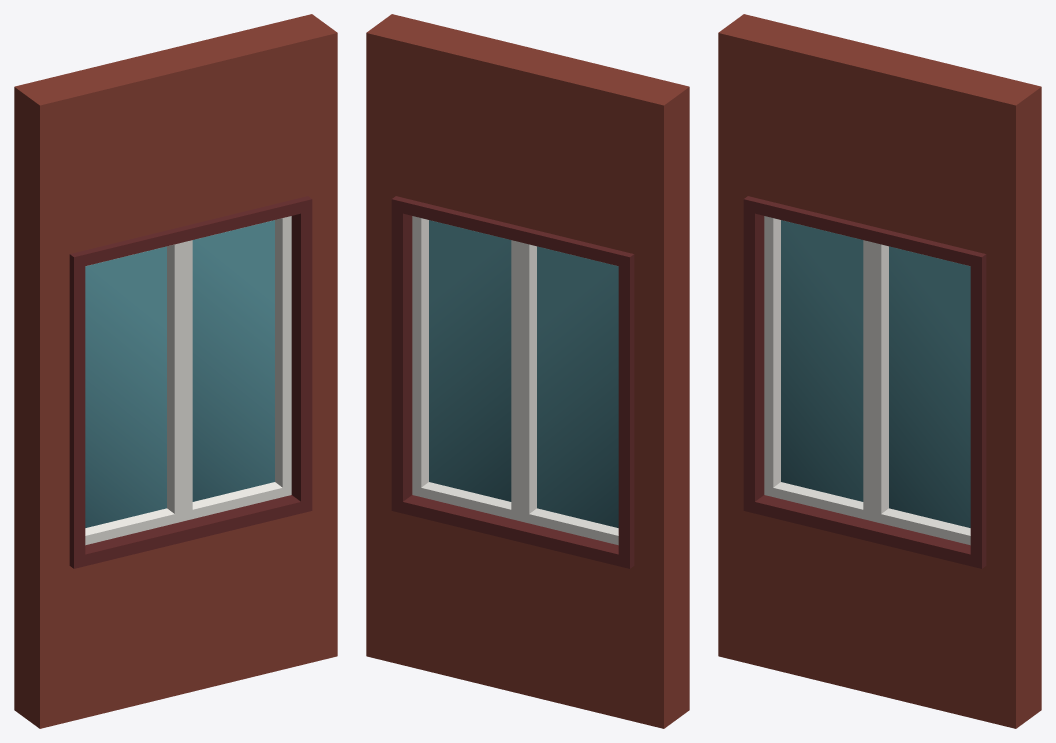
Rendered from window2X1.fbx.
3 renders of one model, left to right at view 1: azimuth 30°, elevation 25°; view 2: azimuth 150°, elevation 25°; view 3: azimuth 330°, elevation 25°, orthographic.
Parts seen in each view (by area): view 1: window2x1; view 2: window2x1; view 3: window2x1.
Part boxes in pixels (box(x1,y1,x2,y2)): window2x1: box(14, 14, 337, 728); window2x1: box(366, 14, 689, 728); window2x1: box(718, 14, 1041, 728).
Bounding box in the file's own units: 200 × 400 × 40.
Materials: 1 (1 with a texture image).
